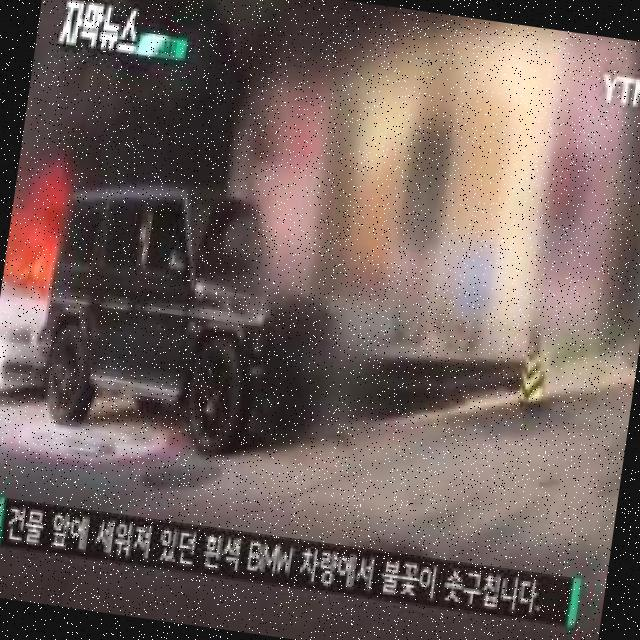Fire: (1, 187, 66, 298)
